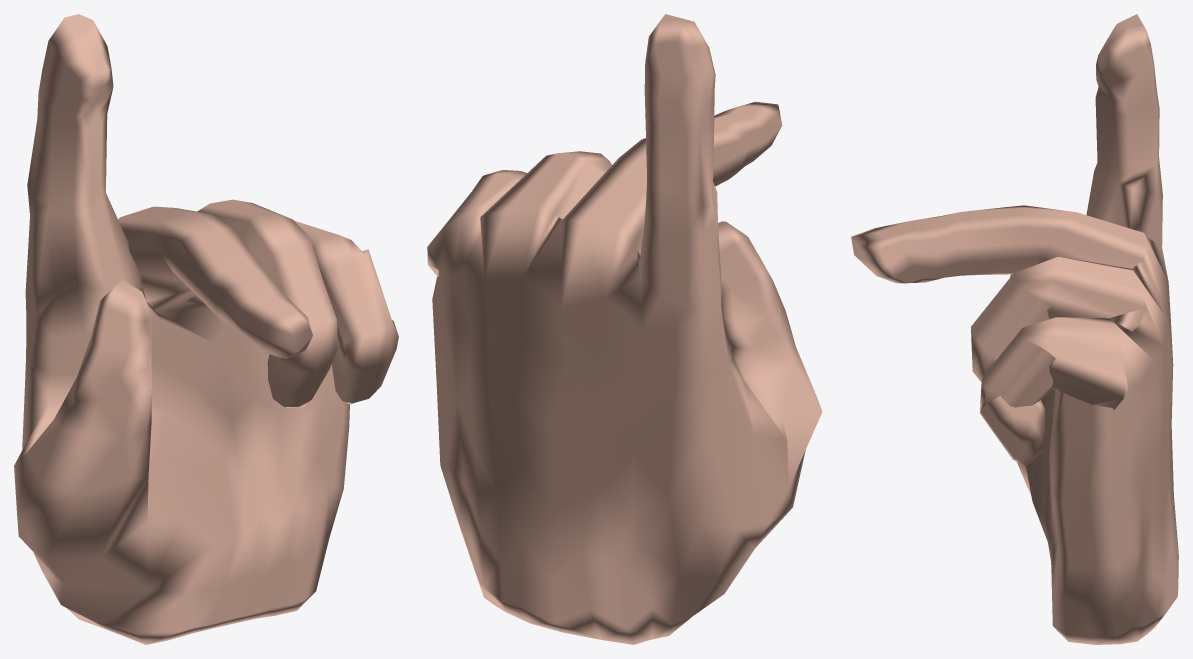
The model's file is MAO_K.obj.
3 renders of one model, left to right at view 1: azimuth 30°, elevation 25°; view 2: azimuth 150°, elevation 25°; view 3: azimuth 270°, elevation 25°, orthographic. The views are drawn at different scales.
Visible parts, largest first — view 1: mao_dir polySurface1; view 2: mao_dir polySurface1; view 3: mao_dir polySurface1.
Part boxes in pixels (left/top/right/bottom): mao_dir polySurface1: left=14, top=14, right=398, bottom=644; mao_dir polySurface1: left=427, top=14, right=822, bottom=644; mao_dir polySurface1: left=851, top=14, right=1178, bottom=644.
Size of the model in its own units: 132 by 227 by 124.
